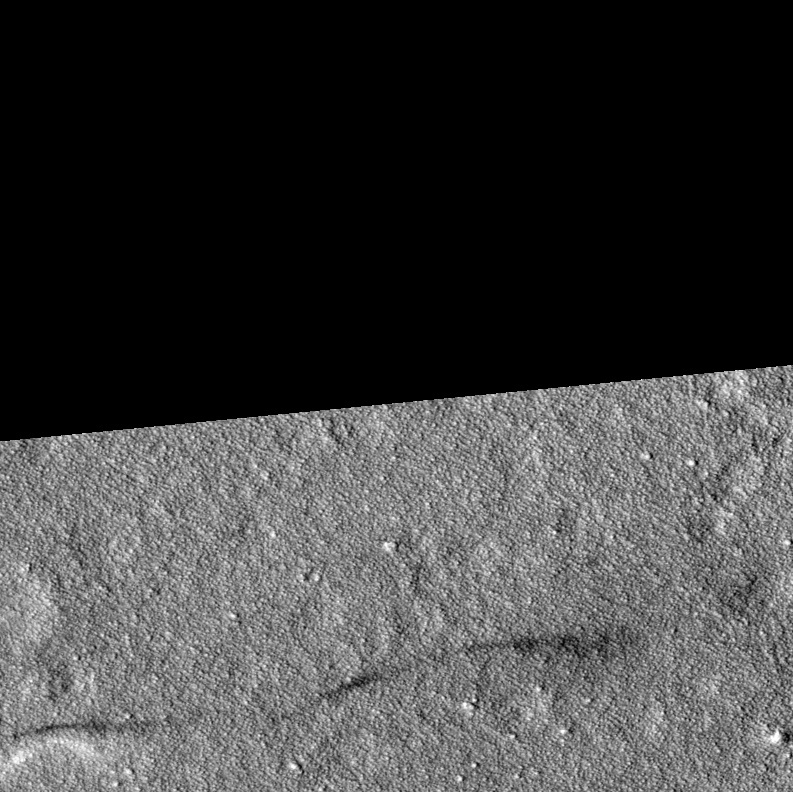dust_devil: (1, 714, 158, 764)
